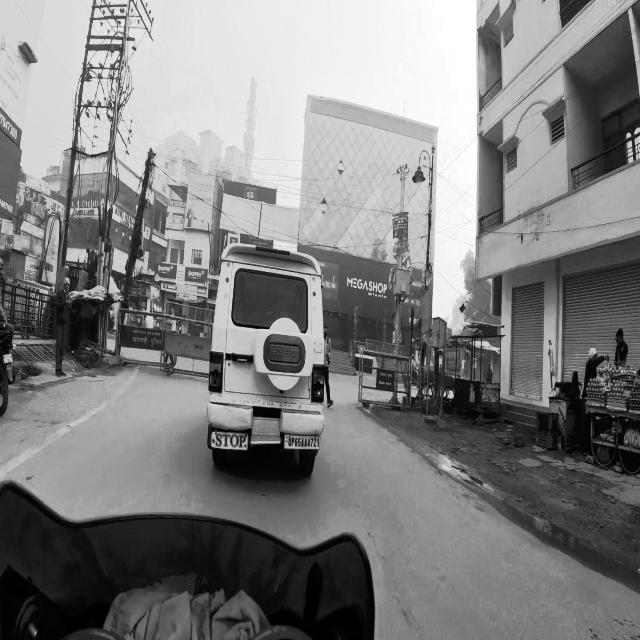Car: (206, 217, 326, 498)
